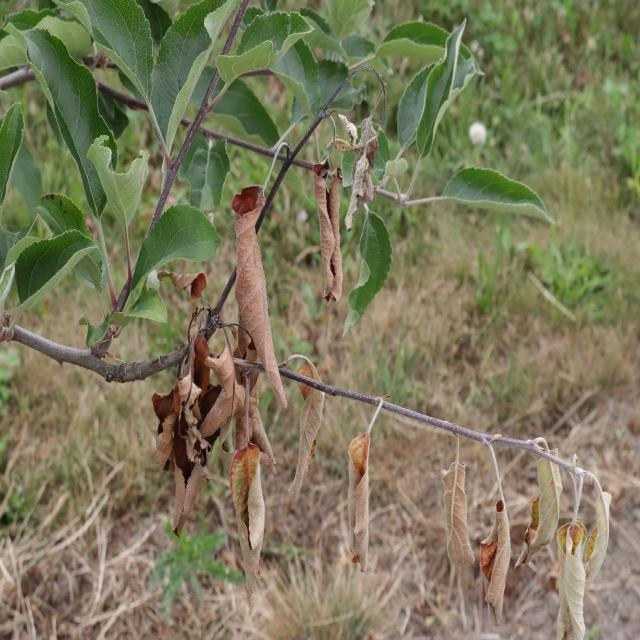-FireBlight-: (138, 308, 276, 558), (228, 183, 286, 403), (303, 138, 352, 312), (554, 498, 606, 634), (428, 445, 478, 579), (340, 382, 374, 570), (290, 350, 330, 490), (350, 120, 386, 244), (490, 497, 512, 624), (538, 451, 558, 550)
